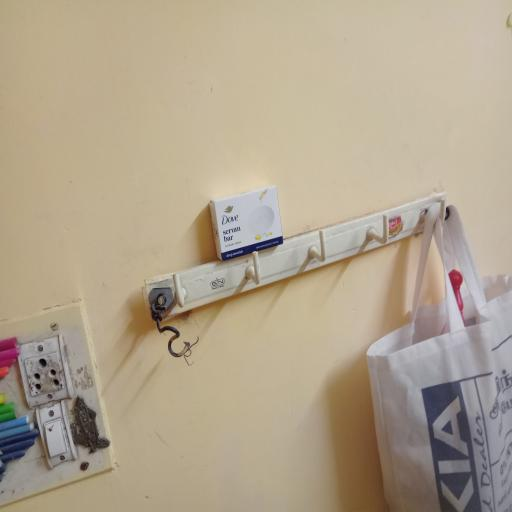Dove`1: (199, 184, 293, 263)
